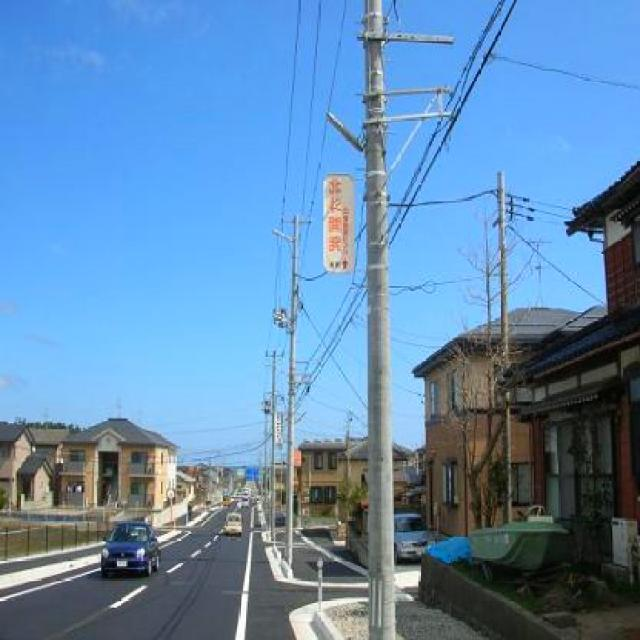crossarm: (355, 27, 458, 51), (354, 83, 457, 101)
pole: (365, 0, 398, 639), (284, 214, 303, 577)
wire: (391, 1, 524, 245), (387, 1, 508, 224), (292, 1, 353, 292), (271, 1, 307, 308), (288, 2, 329, 269), (297, 287, 367, 414), (507, 223, 606, 306), (301, 302, 367, 411), (495, 52, 640, 90), (389, 190, 498, 209)
